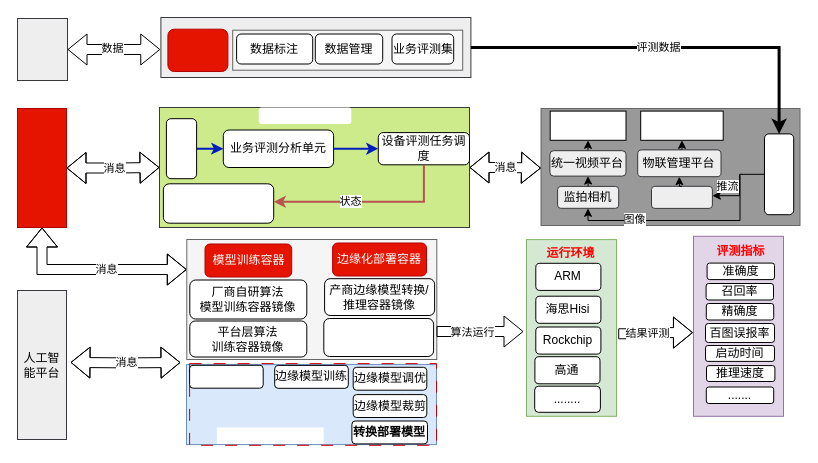
Image size: 818x463. Some labels were removed from this diagram. The shapes that lost their labels are listed below. From the top down, each one's centre as x and y in pixels, then its label:
At (42,49): "非结构化平台".
At (197,50): "数据 治理".
At (304,115): "评测中心".
At (587,125): "监拍相机评测".
At (681,125): "配电边设备评测".
At (41,168): "可视化控制台".
At (181,148): "评测启动".
At (779,174): "模拟数据源".
At (218,203): "评测任务监测模块".
At (681,196): "智能网关".
At (378,337): "边缘端转换/推理算法镜像".
At (226,376): "构建训练数据".
At (269,435): "边缘模型开发组件".
